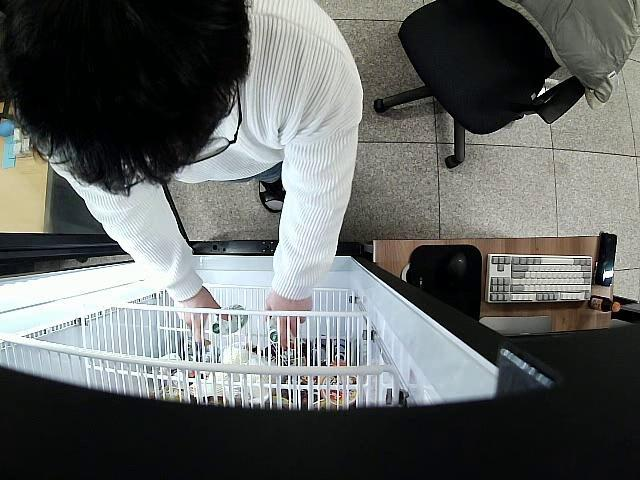18_trevi: (212, 301, 248, 339), (264, 317, 281, 343)
